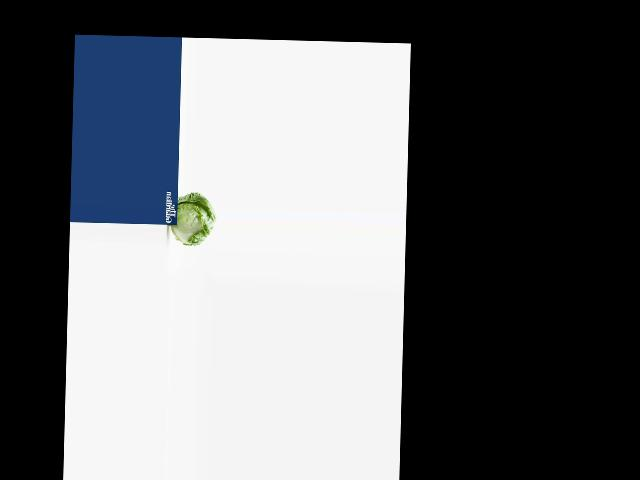lettuce: (170, 193, 218, 245)
